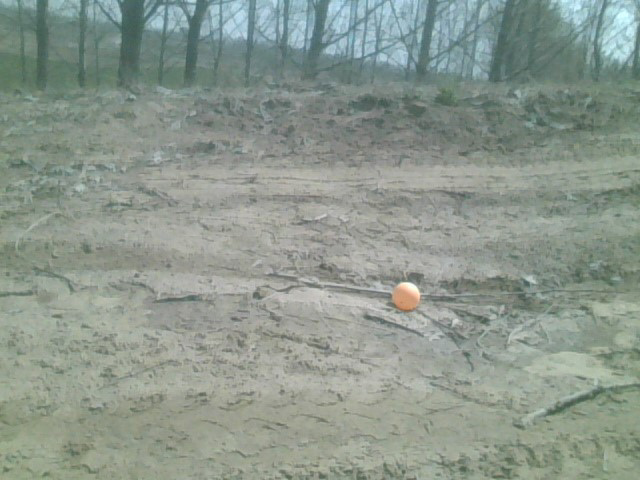ball: (391, 280, 422, 308)
